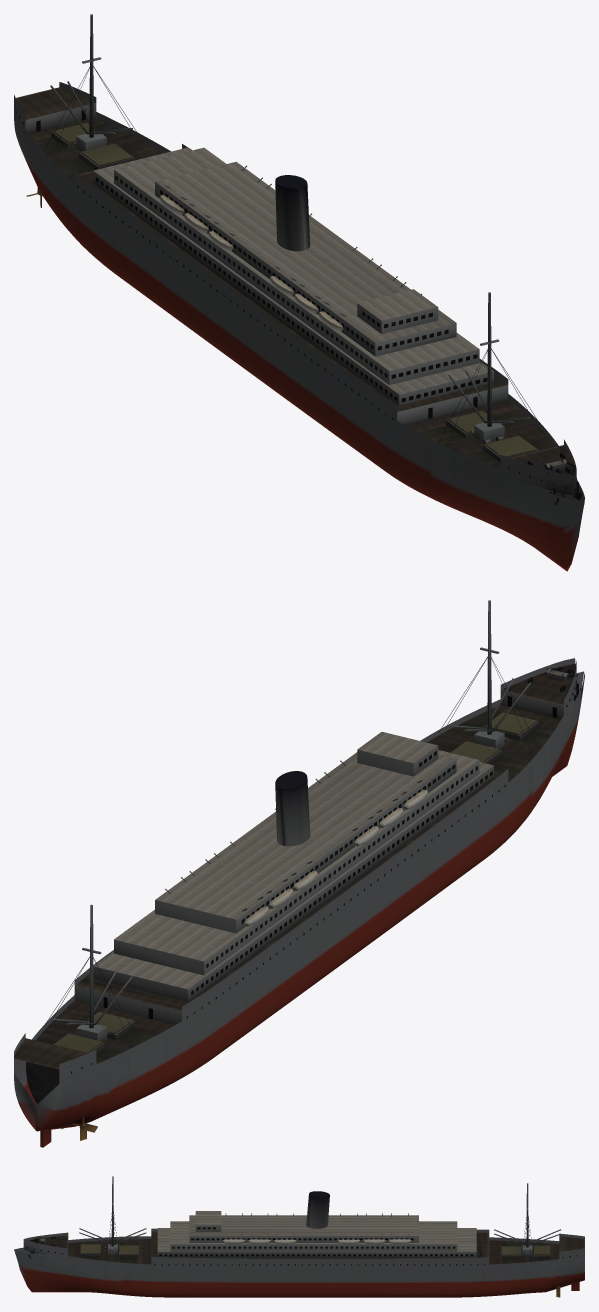
Rendered from model_built.glb.
3 renders of one model, top to bottom at view 1: azimuth 30°, elevation 25°; view 2: azimuth 150°, elevation 25°; view 3: azimuth 270°, elevation 25°, orthographic. The views are drawn at different scales.
Parts seen in each view (by area): view 1: main; view 2: main; view 3: main.
Part boxes in pixels (box(x1,y1,x2,y2)): main: box(14, 14, 584, 571); main: box(14, 600, 584, 1147); main: box(14, 1176, 584, 1297).
Bounding box in the file's own units: 21.42 × 40.04 × 179.
Materials: 2 (2 with a texture image).
